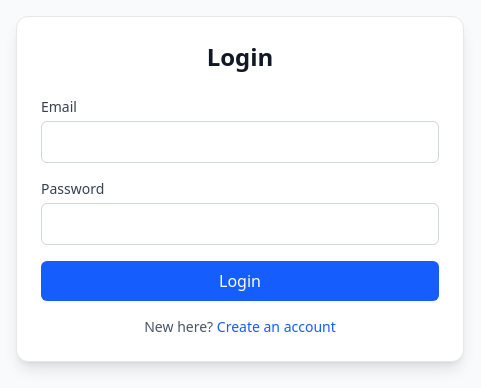
LoginPage › loading state › shows "Logging in..." and disables the button while the request is pending
The width and height of the screenshot is (481, 388).
Type "test@example.com" into the field at (240, 142), box x1=41 y1=121 x2=439 y2=163
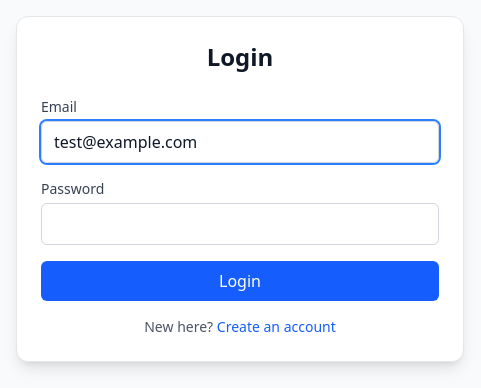
Type "secret123" into the password field at (240, 224), box x1=41 y1=203 x2=439 y2=245
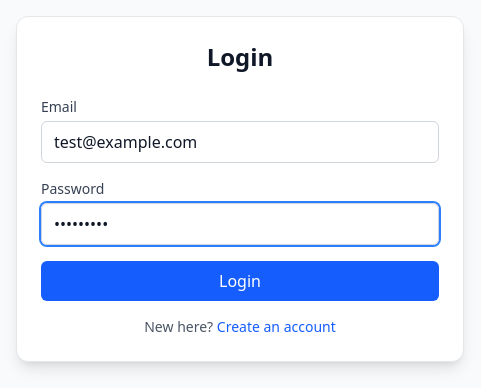
Click the button "Login" at (240, 281), box x1=41 y1=261 x2=439 y2=301
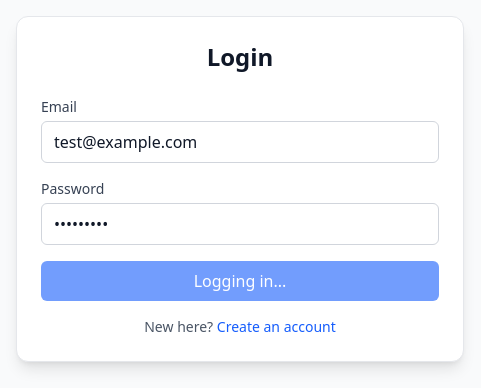
Expected: the button "Logging in..." is disabled, x1=41 y1=261 x2=439 y2=301
